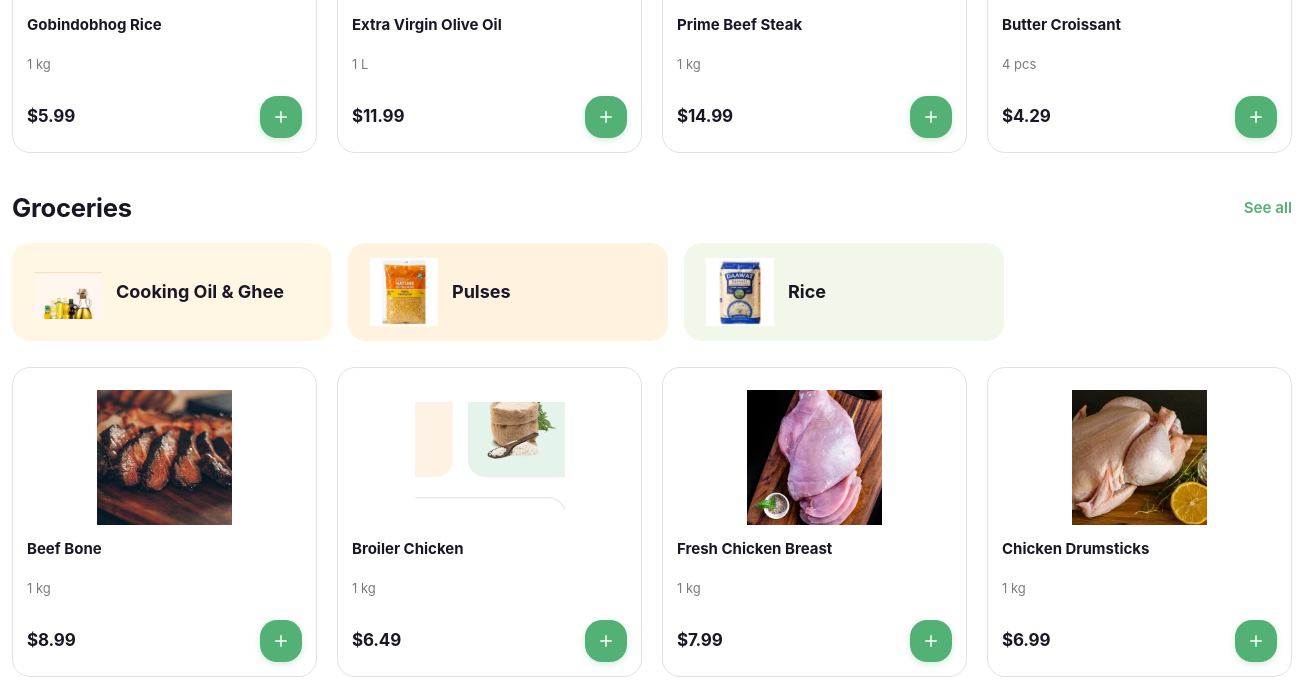
HomePage Professional UI & Carousel › filters grocery products to Pulses when Pulses chip is clicked
The width and height of the screenshot is (1304, 692).
(page scrolled)
Click the button with aria-label "filter by pulses" at (508, 292), box [348, 243, 668, 341]
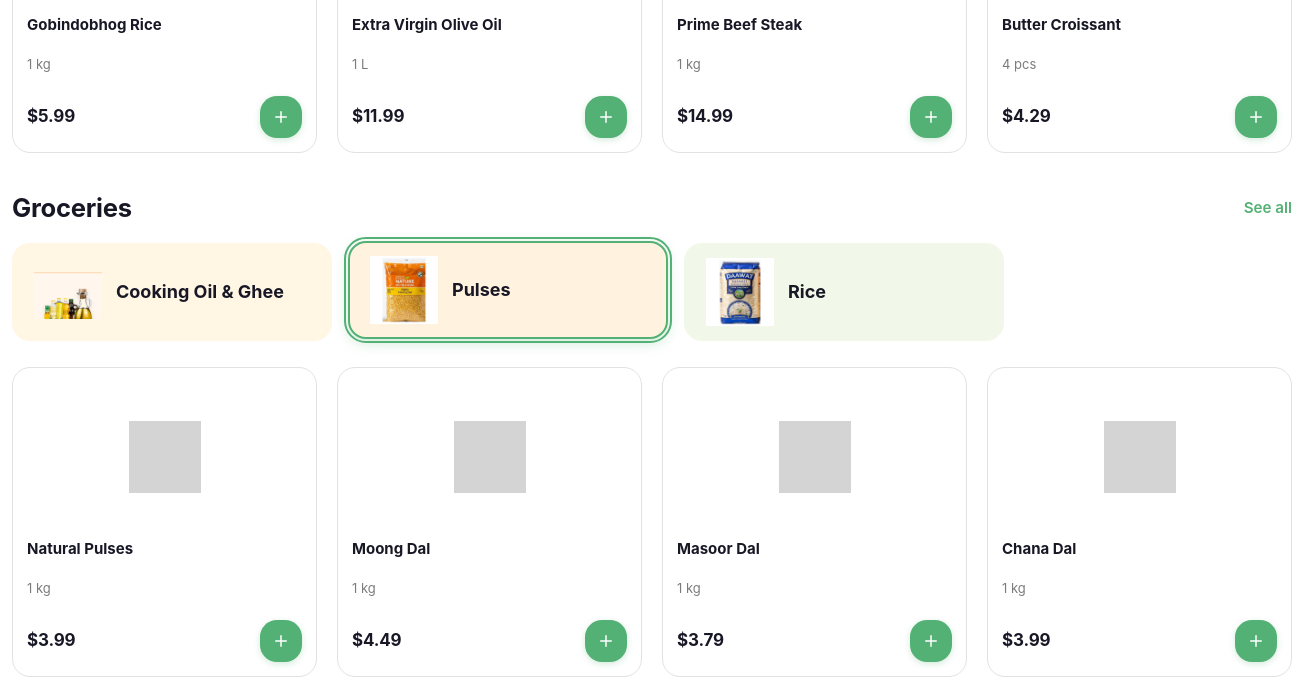
Now the heading "Natural Pulses" is shown, box [27, 539, 133, 558]
Now the element with test id "product-card-prod-pulses" is shown, box [12, 367, 317, 677]
